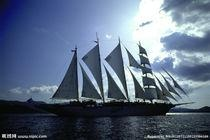fanchuan: (34, 33, 195, 117)
